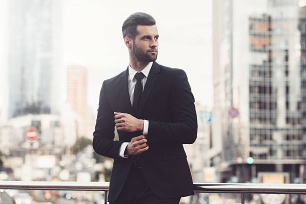male: (126, 10, 164, 68)
